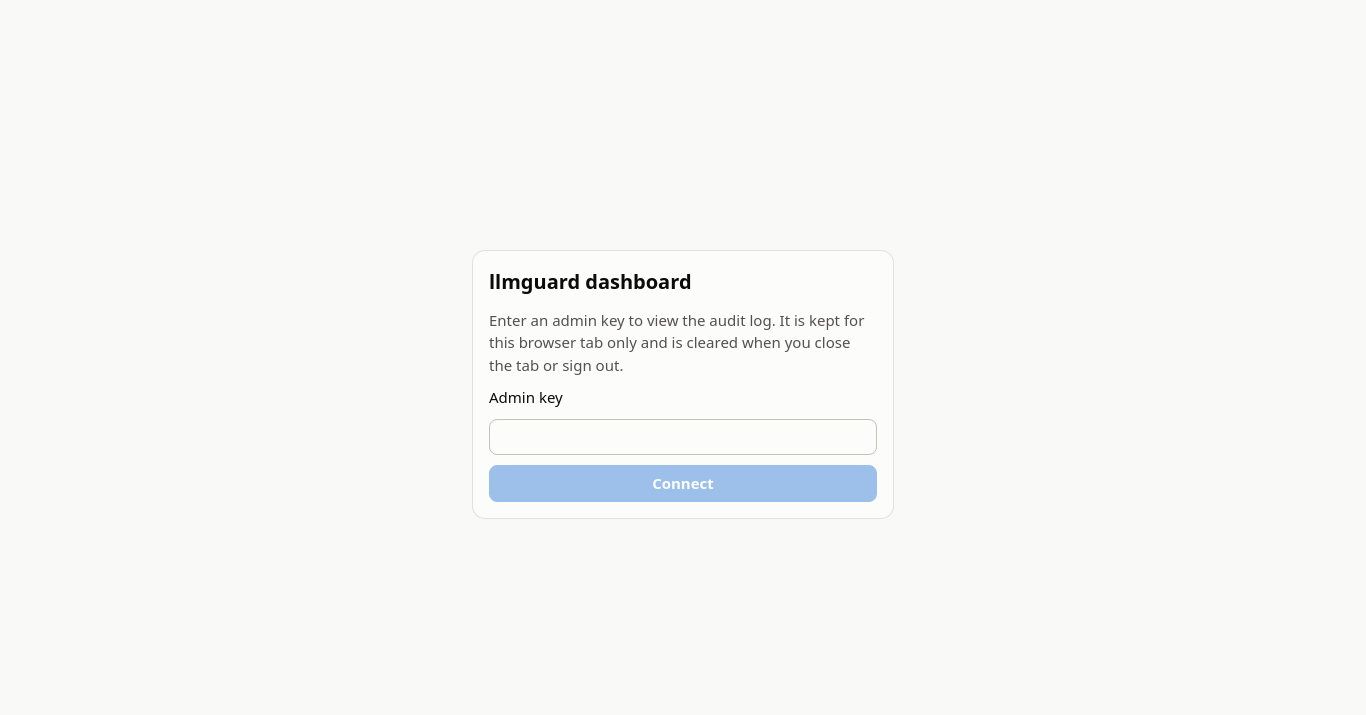
Test: App › signs out: clears the key and returns to the key screen
Type "good-admin-key-0123456789" into the password field labelled "Admin key". click: (683, 437)
box: [489,418,877,455]
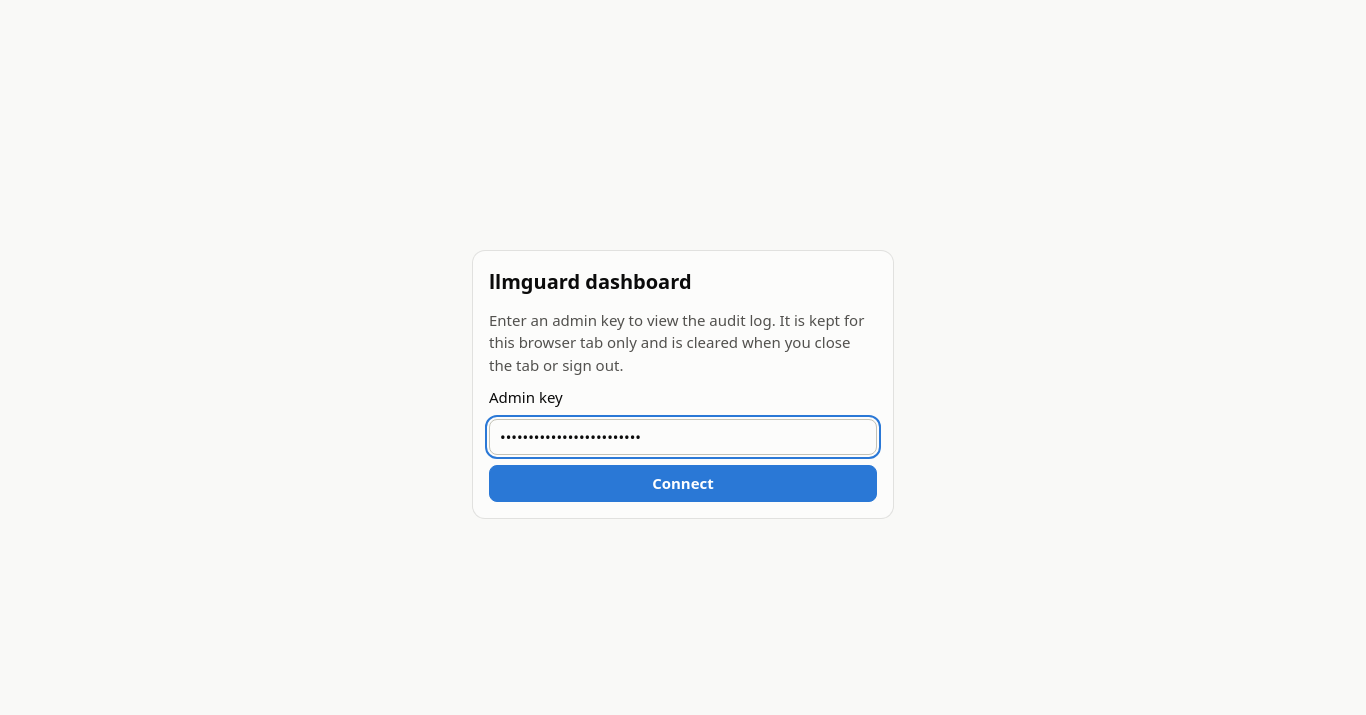
Click the button "Connect". click: (683, 483)
box: [489,465,877,502]
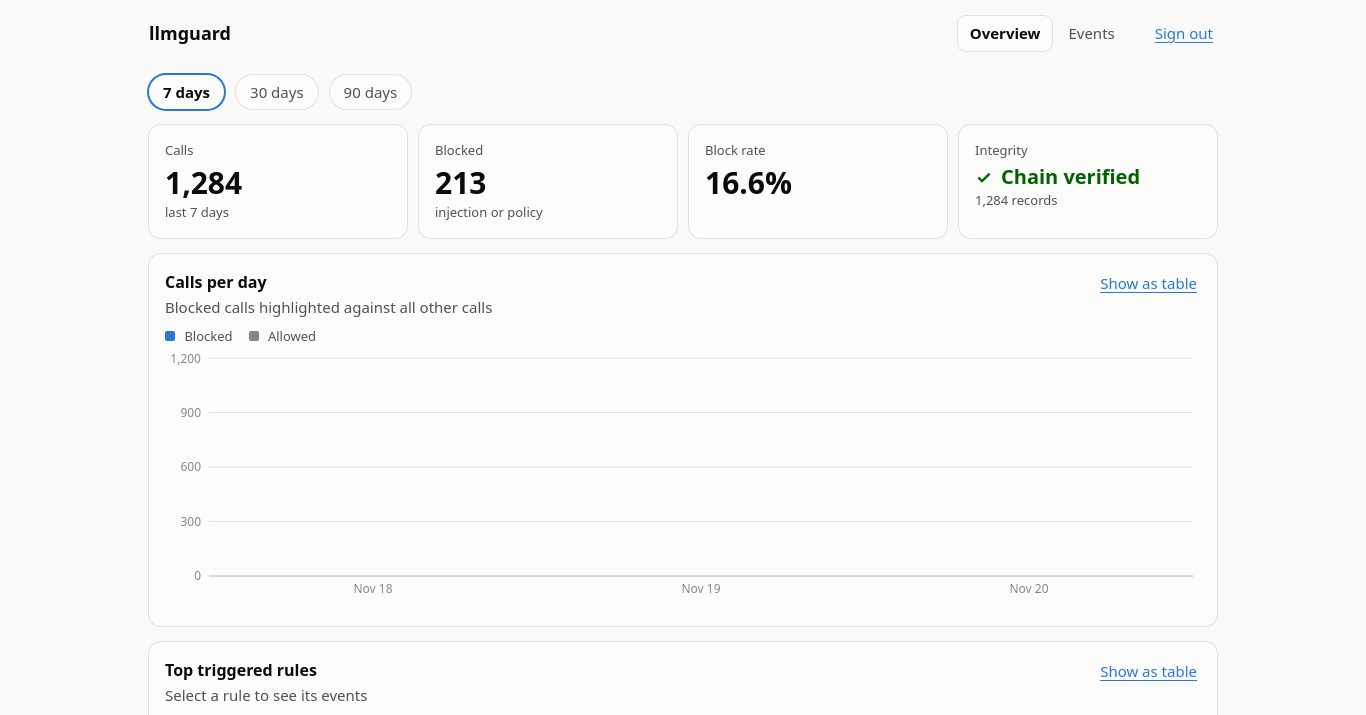
Now the text "1,284" is shown, box [165,164,242,200]
Click the button "Sign out". click: (1184, 33)
box: [1151,20,1217,46]
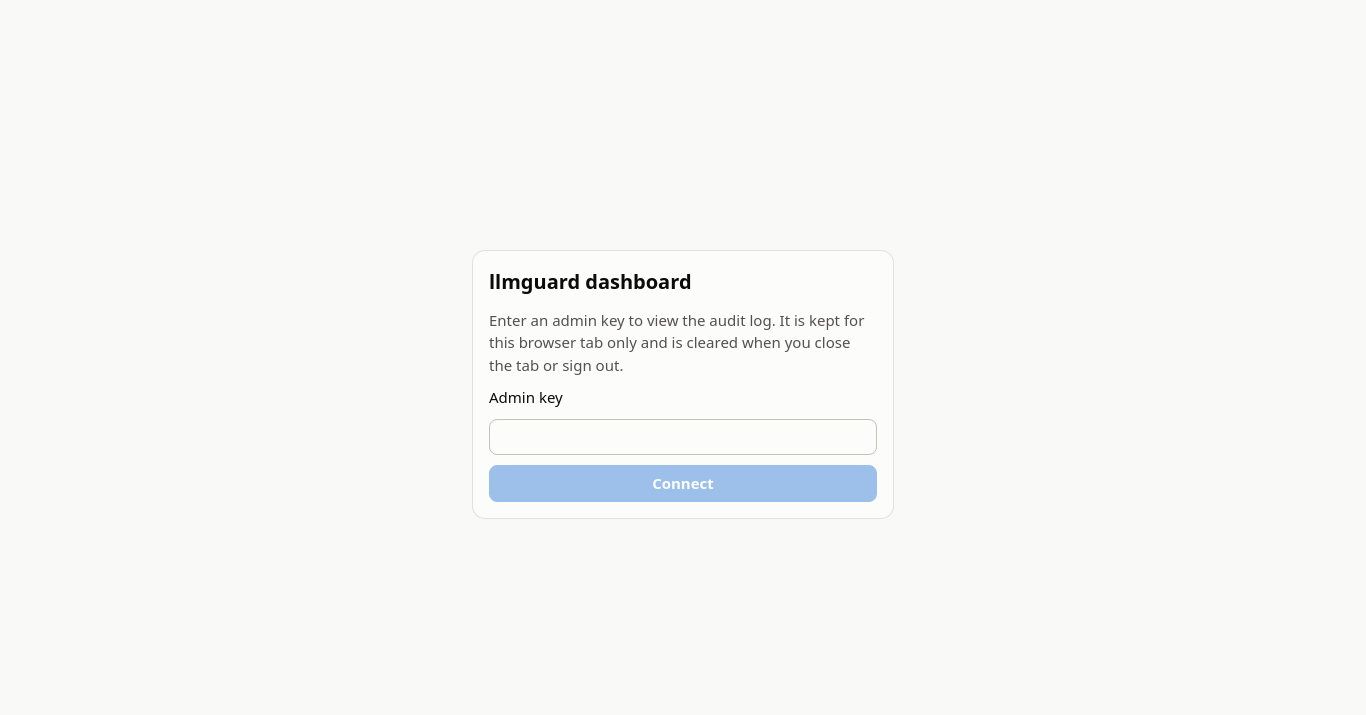
Now the password field labelled "Admin key" is shown, box [489,418,877,455]
